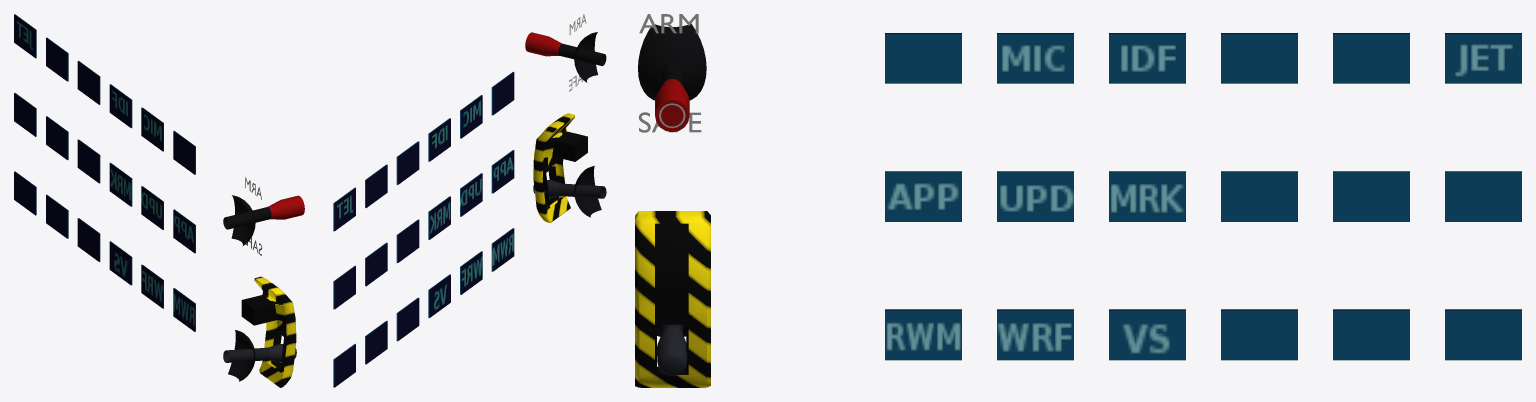
The model's file is weapons.fbx.
3 views of the same model, side by side, from view 1: azimuth 30°, elevation 25°; view 2: azimuth 150°, elevation 25°; view 3: azimuth 270°, elevation 25° (orthographic). The views are drawn at different scales.
Parts seen in each view (by area): view 1: weapons.texte.off, weapons.clapet, weapons.switch, weapons.switch2; view 2: weapons.texte.off, weapons.clapet, weapons.switch, weapons.switch2; view 3: weapons.clapet, weapons.switch, weapons.texte.1, weapons.texte.2, weapons.texte.3, weapons.texte.7, weapons.texte.8, weapons.texte.9, weapons.texte.idf, weapons.texte.jet, weapons.texte.mic, weapons.texte.rwm (+11 smaller).
Boxes of the visible parts, left/top/right/bottom form: weapons.texte.off: left=14, top=14, right=194, bottom=331; weapons.clapet: left=241, top=276, right=296, bottom=387; weapons.switch: left=223, top=195, right=304, bottom=246; weapons.switch2: left=223, top=330, right=296, bottom=381; weapons.texte.off: left=334, top=72, right=514, bottom=387; weapons.clapet: left=533, top=113, right=587, bottom=222; weapons.switch: left=525, top=32, right=606, bottom=82; weapons.switch2: left=533, top=166, right=606, bottom=217; weapons.clapet: left=635, top=211, right=710, bottom=387; weapons.switch: left=638, top=23, right=706, bottom=132; weapons.texte.1: left=885, top=33, right=961, bottom=83; weapons.texte.2: left=1221, top=33, right=1297, bottom=83; weapons.texte.3: left=1333, top=33, right=1409, bottom=83; weapons.texte.7: left=1221, top=310, right=1297, bottom=360; weapons.texte.8: left=1333, top=310, right=1409, bottom=360; weapons.texte.9: left=1445, top=310, right=1521, bottom=360; weapons.texte.idf: left=1109, top=33, right=1185, bottom=83; weapons.texte.jet: left=1445, top=33, right=1521, bottom=83; weapons.texte.mic: left=997, top=33, right=1073, bottom=83; weapons.texte.rwm: left=885, top=310, right=961, bottom=360.
Bounding box in the file's own units: 2.52 × 14.76 × 6.53.
